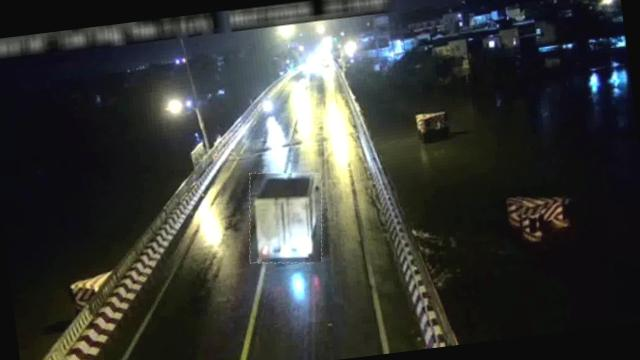Truck: (242, 166, 329, 268)
